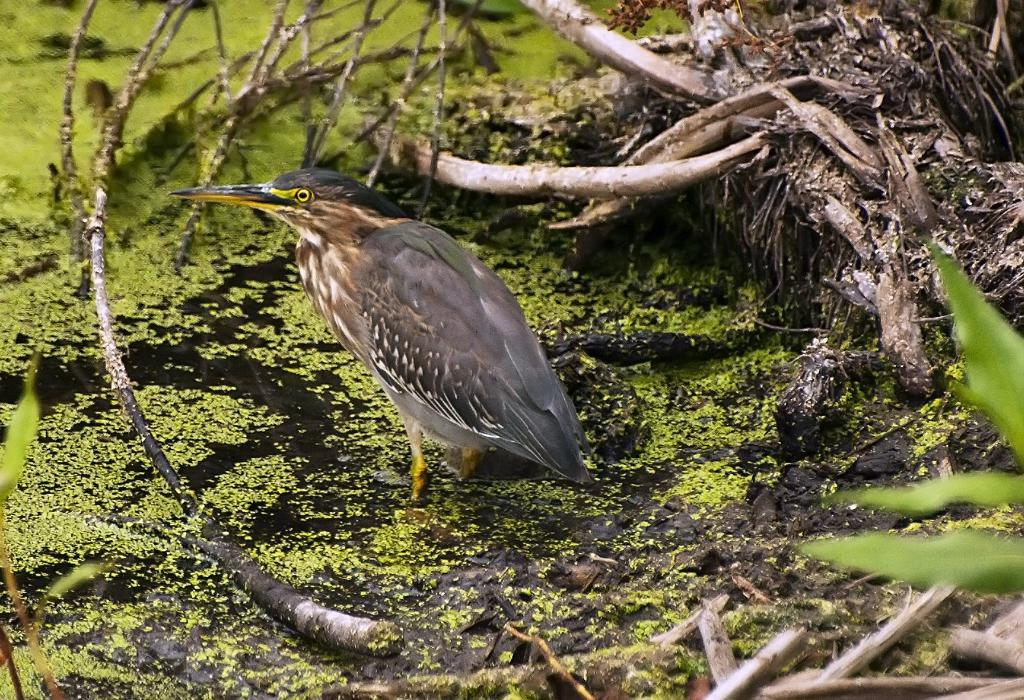Bird: (168, 168, 595, 501)
